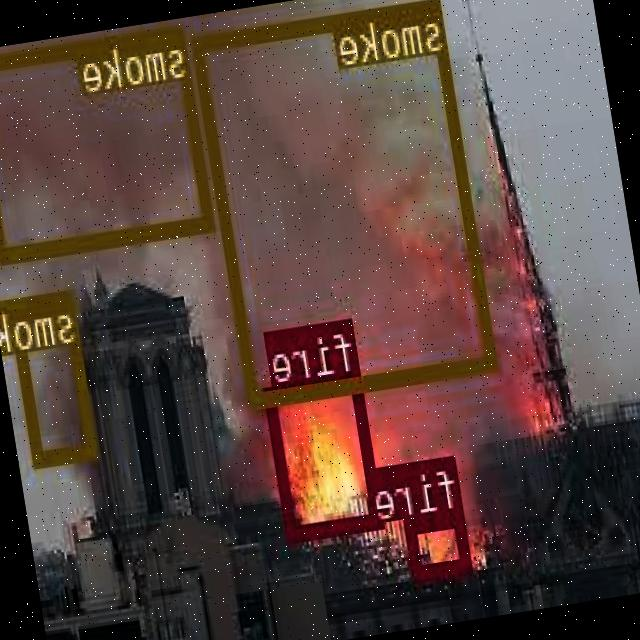fire: (266, 369, 386, 540), (406, 508, 476, 577)
smoke: (192, 0, 499, 405), (0, 20, 216, 261), (11, 287, 101, 464)
